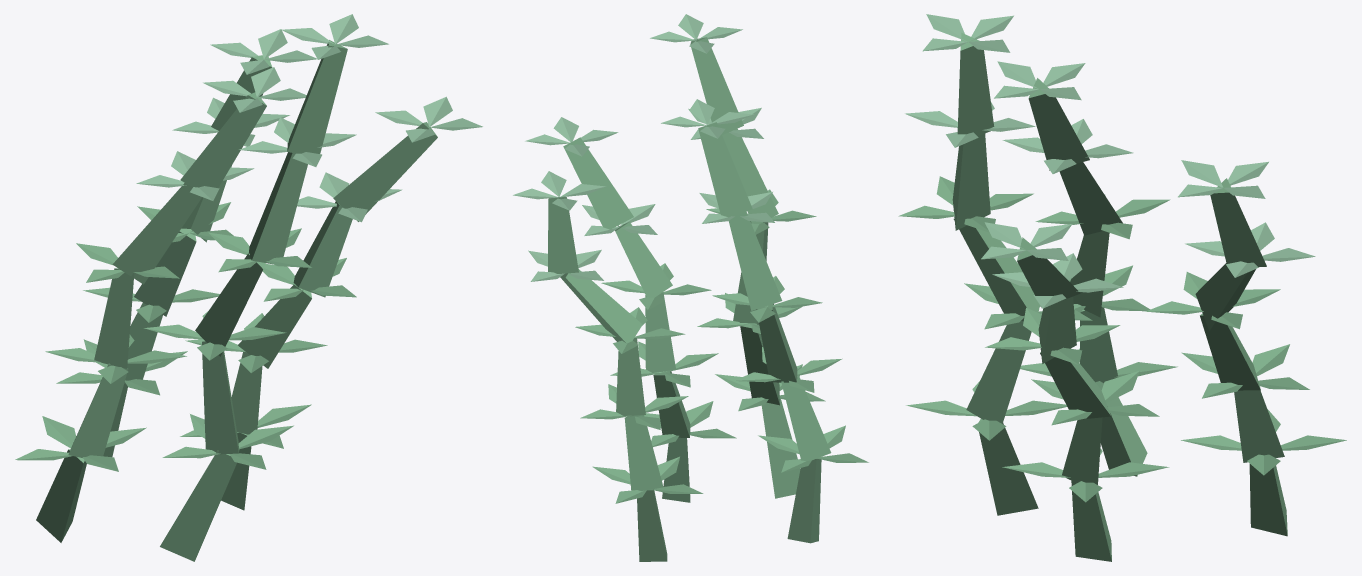
The model's file is shui.huwei@subadult__bloom.glb.
3 views of the same model, side by side, from view 1: azimuth 30°, elevation 25°; view 2: azimuth 150°, elevation 25°; view 3: azimuth 270°, elevation 25° (orthographic). The views are drawn at different scales.
Visible parts, largest first — view 1: shui.huwei@subadult__bloom; view 2: shui.huwei@subadult__bloom; view 3: shui.huwei@subadult__bloom.
Part boxes in pixels (box(x1,y1,x2,y2)): shui.huwei@subadult__bloom: box(15, 14, 482, 561); shui.huwei@subadult__bloom: box(513, 14, 868, 561); shui.huwei@subadult__bloom: box(898, 14, 1346, 561).
Size of the model in its own units: 0.4348 by 0.4977 by 0.3686.
